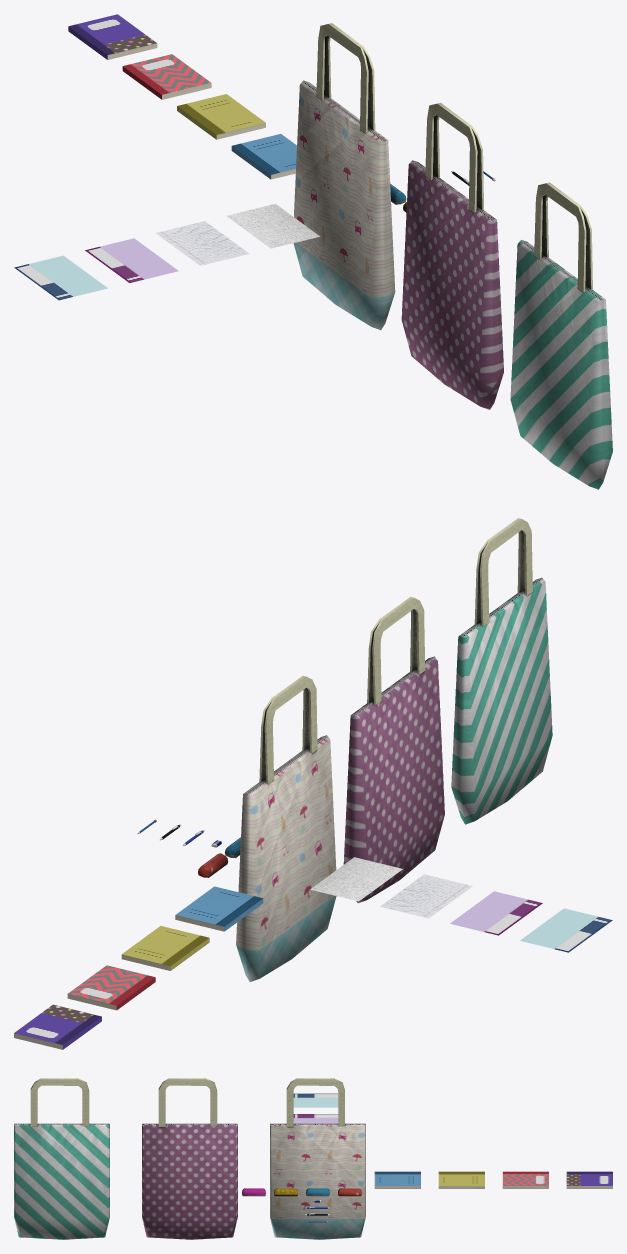
The model's file is prop_sch_miniprops.fbx.
The picture shows the model from 3 angles, top to bottom: view 1: azimuth 30°, elevation 25°; view 2: azimuth 150°, elevation 25°; view 3: azimuth 270°, elevation 25°; orthographic projection. The views are drawn at different scales.
Parts seen in each view (by area): view 1: prop_sch_miniprops_ToteBag2, prop_sch_miniprops_ToteBag1, prop_sch_miniprops_ToteBag3, prop_sch_miniprops_Book1, prop_sch_miniprops_Book2, prop_sch_miniprops_Book3, prop_sch_miniprops_Paper1, prop_sch_miniprops_Folio1, prop_sch_miniprops_Folio2, prop_sch_miniprops_Paper2, prop_sch_miniprops_Book4; view 2: prop_sch_miniprops_ToteBag1, prop_sch_miniprops_ToteBag3, prop_sch_miniprops_ToteBag2, prop_sch_miniprops_Book2, prop_sch_miniprops_Book3, prop_sch_miniprops_Book4, prop_sch_miniprops_Book1, prop_sch_miniprops_Folio2, prop_sch_miniprops_Folio1, prop_sch_miniprops_Paper1, prop_sch_miniprops_Paper2; view 3: prop_sch_miniprops_ToteBag1, prop_sch_miniprops_ToteBag2, prop_sch_miniprops_ToteBag3, prop_sch_miniprops_Book1, prop_sch_miniprops_Book2, prop_sch_miniprops_Book3, prop_sch_miniprops_Book4, prop_sch_miniprops_Folio1, prop_sch_miniprops_Folio2.
Boxes of the visible parts, x1,y1,x2,y2 form: prop_sch_miniprops_ToteBag2: [401, 103, 503, 409]; prop_sch_miniprops_ToteBag1: [510, 182, 612, 489]; prop_sch_miniprops_ToteBag3: [293, 23, 395, 330]; prop_sch_miniprops_Book1: [68, 14, 157, 59]; prop_sch_miniprops_Book2: [122, 54, 211, 99]; prop_sch_miniprops_Book3: [177, 94, 265, 139]; prop_sch_miniprops_Paper1: [156, 221, 249, 265]; prop_sch_miniprops_Folio1: [14, 255, 107, 300]; prop_sch_miniprops_Folio2: [85, 238, 178, 282]; prop_sch_miniprops_Paper2: [226, 204, 319, 248]; prop_sch_miniprops_Book4: [231, 134, 296, 179]; prop_sch_miniprops_ToteBag1: [451, 518, 552, 824]; prop_sch_miniprops_ToteBag3: [236, 675, 336, 981]; prop_sch_miniprops_ToteBag2: [343, 597, 444, 903]; prop_sch_miniprops_Book2: [67, 965, 155, 1010]; prop_sch_miniprops_Book3: [121, 926, 209, 970]; prop_sch_miniprops_Book4: [175, 886, 263, 931]; prop_sch_miniprops_Book1: [14, 1004, 101, 1049]; prop_sch_miniprops_Folio2: [450, 891, 542, 935]; prop_sch_miniprops_Folio1: [520, 908, 612, 952]; prop_sch_miniprops_Paper1: [380, 874, 472, 918]; prop_sch_miniprops_Paper2: [310, 857, 402, 901]; prop_sch_miniprops_ToteBag1: [14, 1078, 109, 1239]; prop_sch_miniprops_ToteBag2: [142, 1078, 237, 1239]; prop_sch_miniprops_ToteBag3: [270, 1078, 365, 1239]; prop_sch_miniprops_Book1: [566, 1171, 612, 1188]; prop_sch_miniprops_Book2: [502, 1171, 548, 1188]; prop_sch_miniprops_Book3: [438, 1171, 484, 1188]; prop_sch_miniprops_Book4: [374, 1171, 420, 1188]; prop_sch_miniprops_Folio1: [293, 1093, 338, 1107]; prop_sch_miniprops_Folio2: [293, 1114, 338, 1123].
Bounding box in the file's own units: 191 × 111 × 374.
